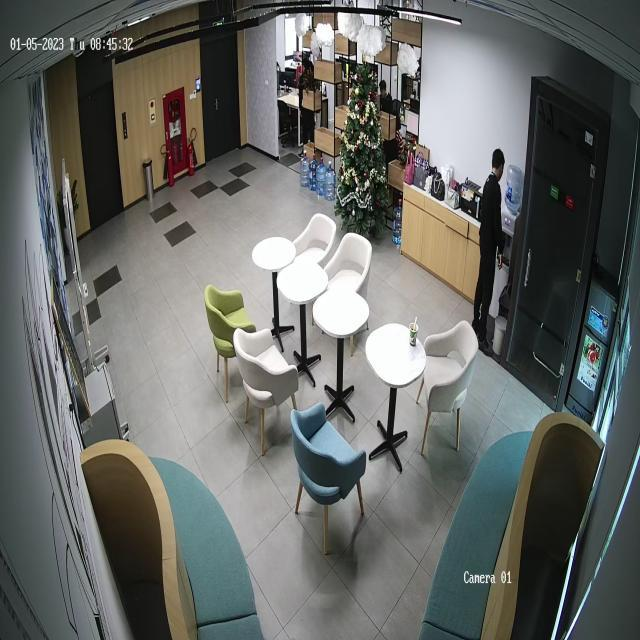person: (472, 149, 507, 351), (295, 55, 317, 159)
